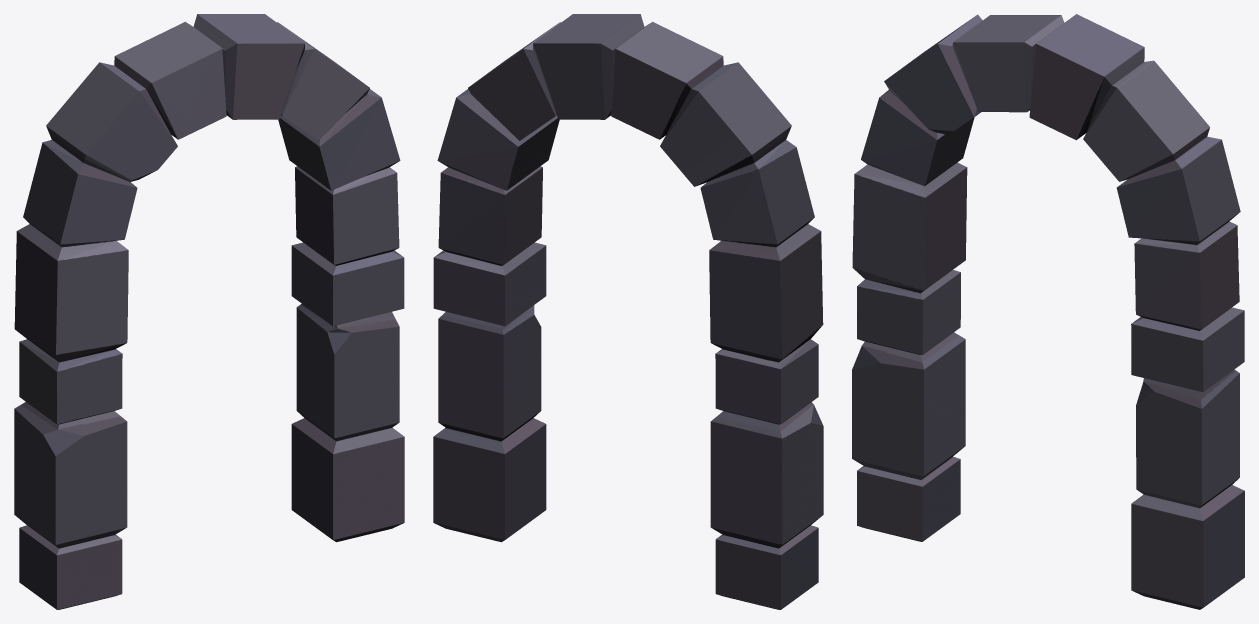
Rendered from Arco de piedra.fbx.
3 views of the same model, side by side, from view 1: azimuth 30°, elevation 25°; view 2: azimuth 150°, elevation 25°; view 3: azimuth 330°, elevation 25° (orthographic).
Visible parts, largest first — view 1: Cube; view 2: Cube; view 3: Cube.
Part boxes in pixels (x1,y1,x2,y2): Cube: (14,14,404,609); Cube: (433,14,823,609); Cube: (852,14,1244,609).
Size of the model in its own units: 1258 by 1815 by 265.
